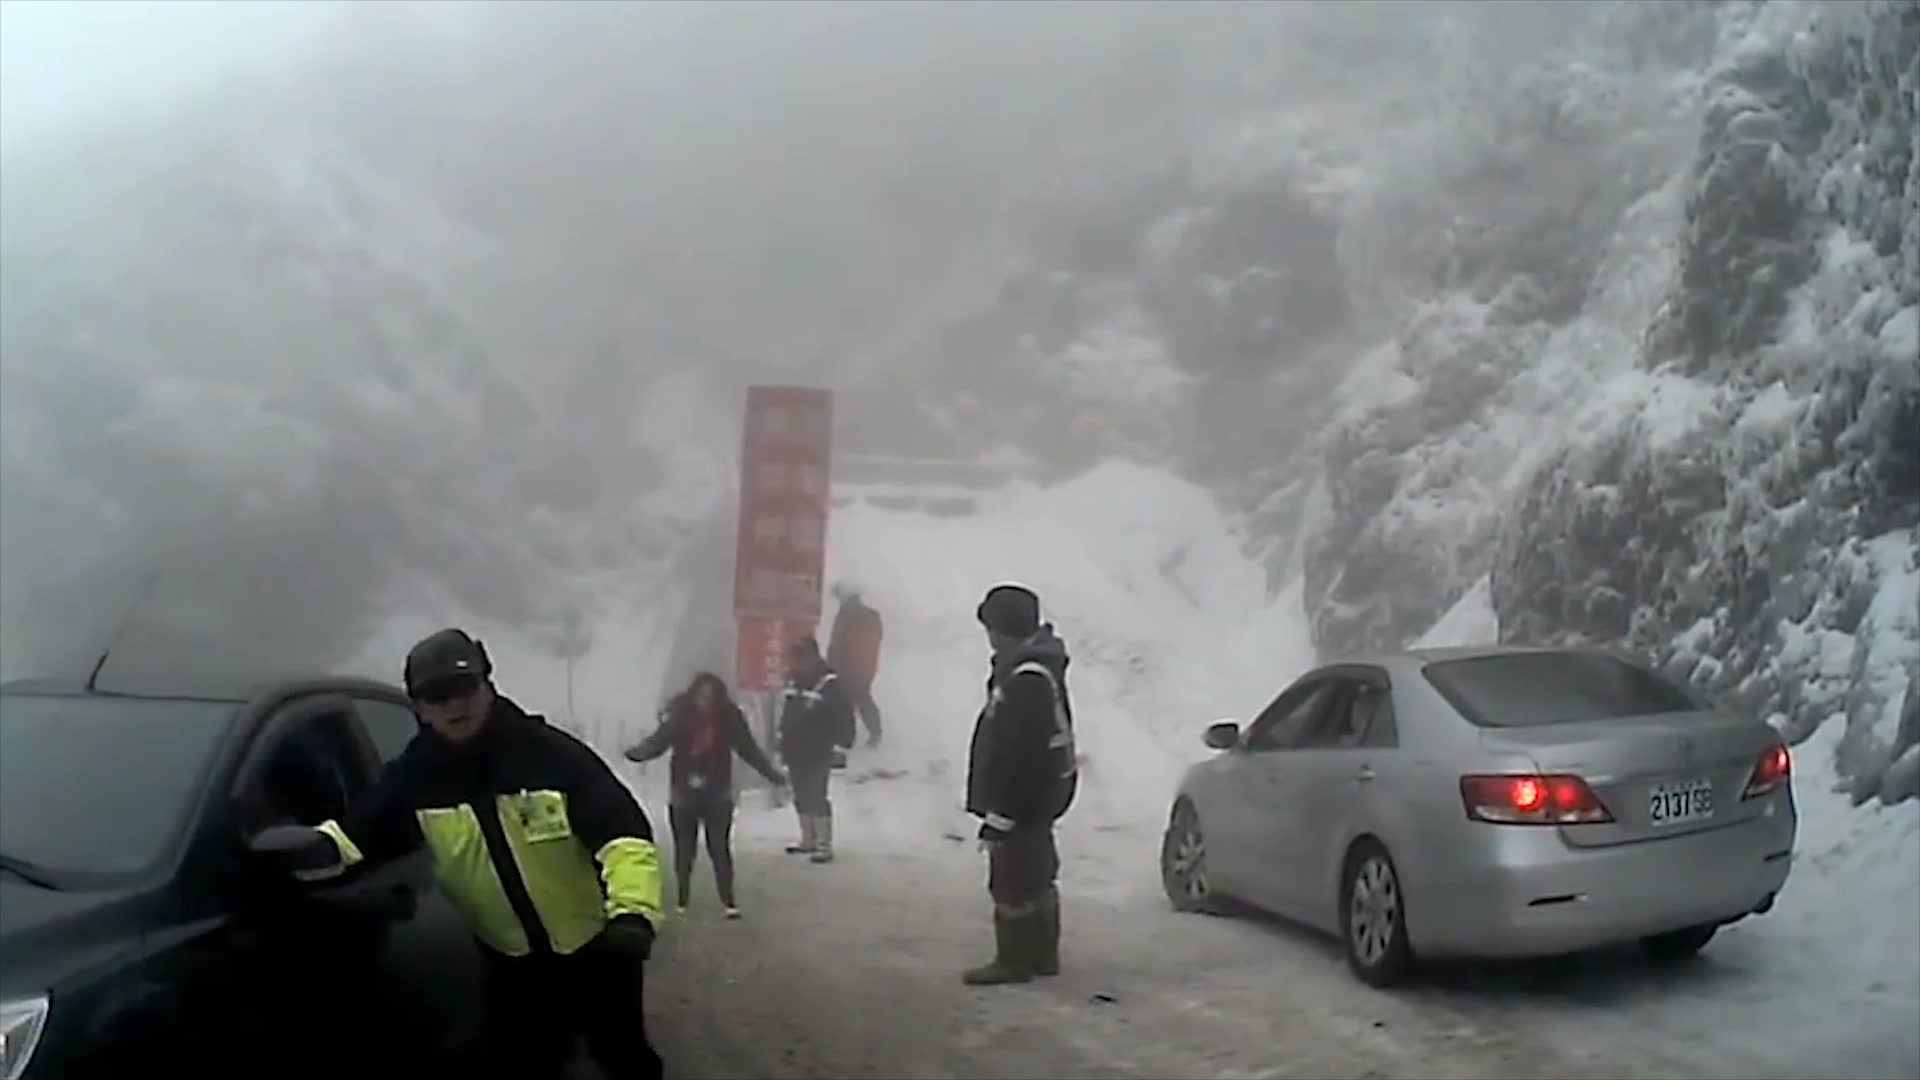pedestrian: (276, 626, 680, 1080), (952, 585, 1083, 984), (626, 671, 782, 925), (391, 645, 512, 923), (780, 641, 857, 864), (827, 576, 887, 745)
vehicle: (0, 665, 562, 1079), (1158, 638, 1798, 985)
